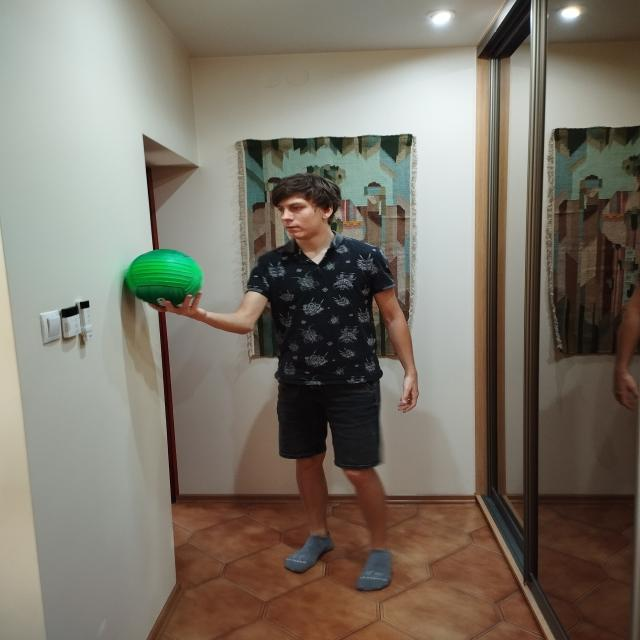zielona: (127, 249, 202, 305)
